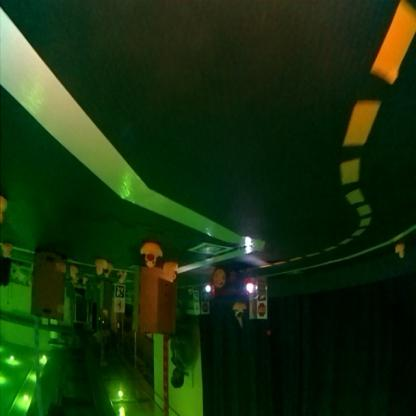Duckie: (141, 244, 164, 266), (165, 263, 179, 280), (234, 303, 245, 318), (96, 261, 108, 274), (396, 245, 405, 259), (106, 264, 113, 274), (121, 276, 126, 284)
Duckiebot: (206, 268, 258, 299)
Intersection sign: (115, 301, 124, 313)
QR code: (194, 243, 234, 255), (116, 286, 126, 299), (194, 293, 199, 303)
Stop sign: (258, 306, 267, 320), (203, 306, 210, 314)
